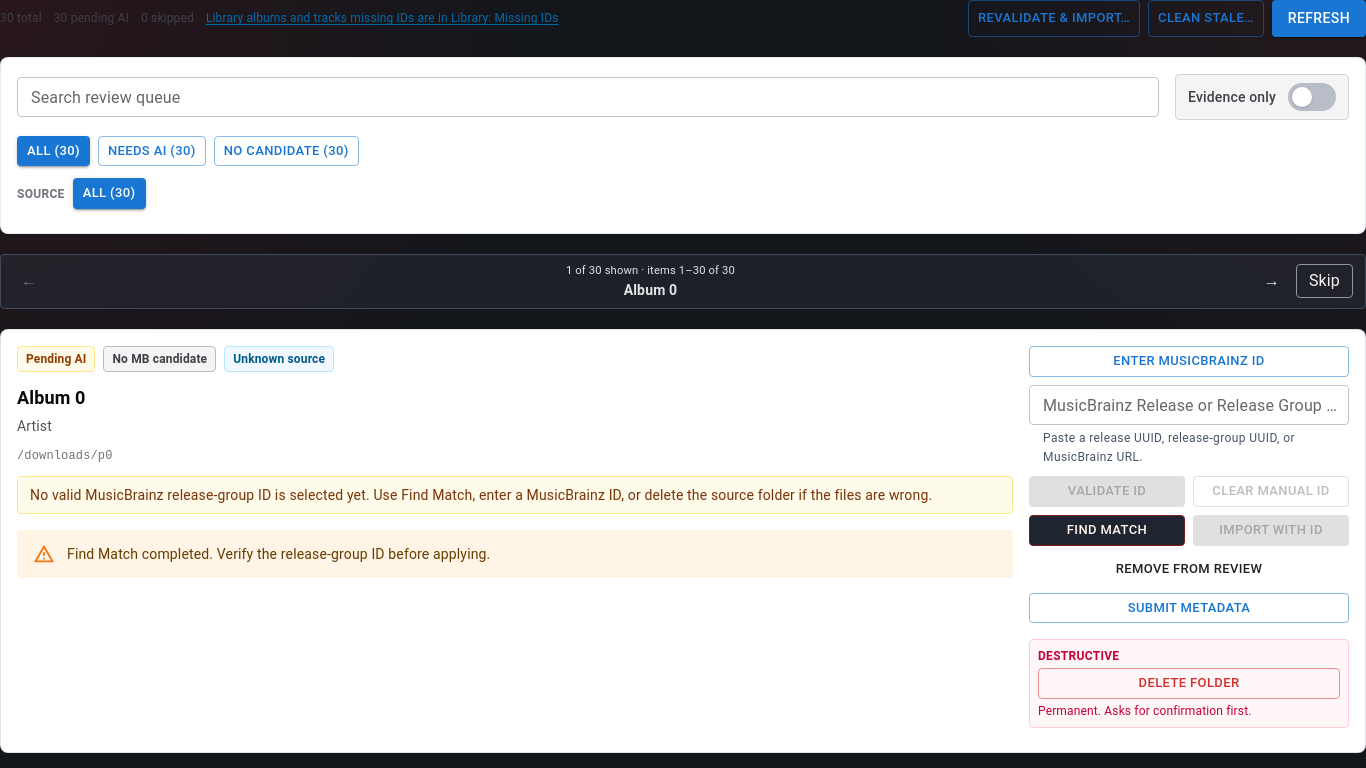
it: Revalidate & Import: synchronous and job forms (#396 B1) › 202 job: says it runs in the background, never "Revalidated 0", then reports the job counts and reloads
This screenshot has width=1366, height=768.
Click the button "Revalidate & Import…" at [1054, 18], box [968,0,1140,36]
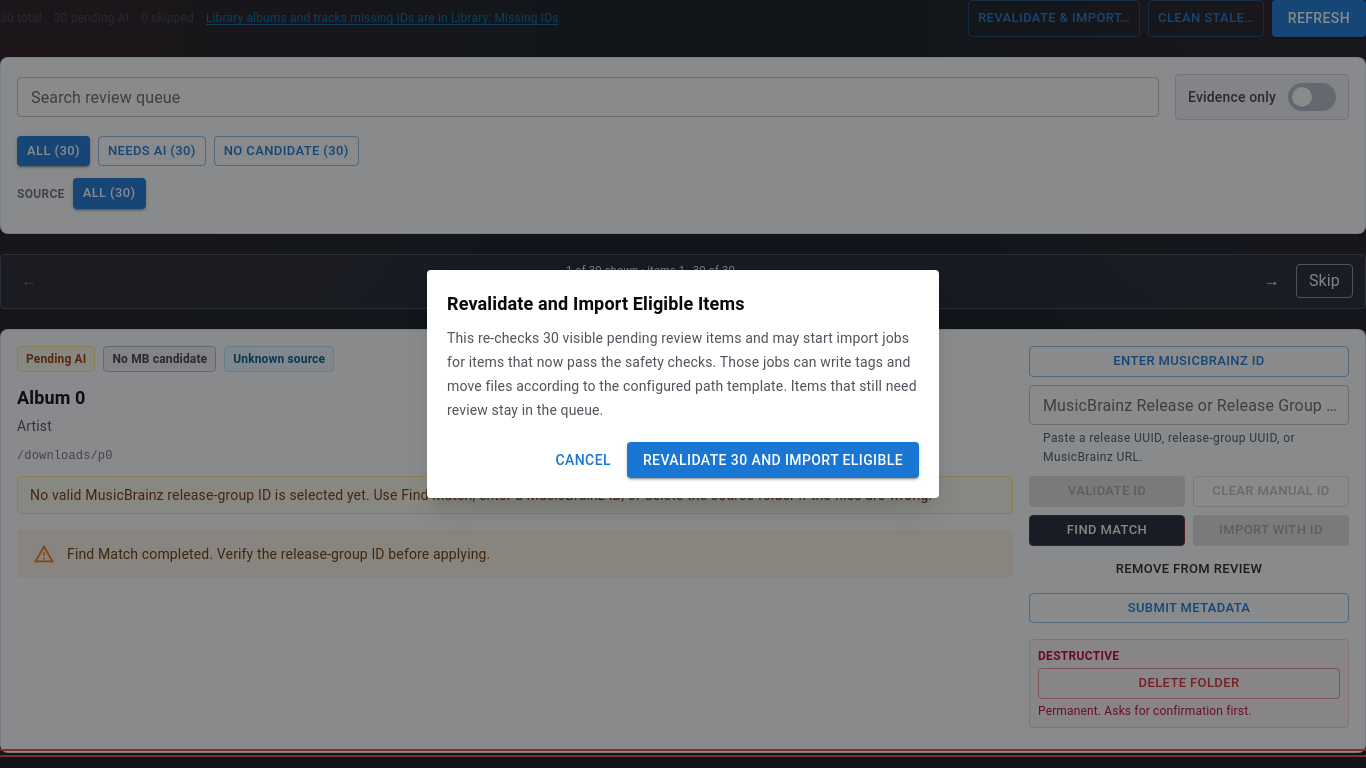
Click the button "Revalidate 30 and import eligible" at [773, 460], box [627,442,919,478]
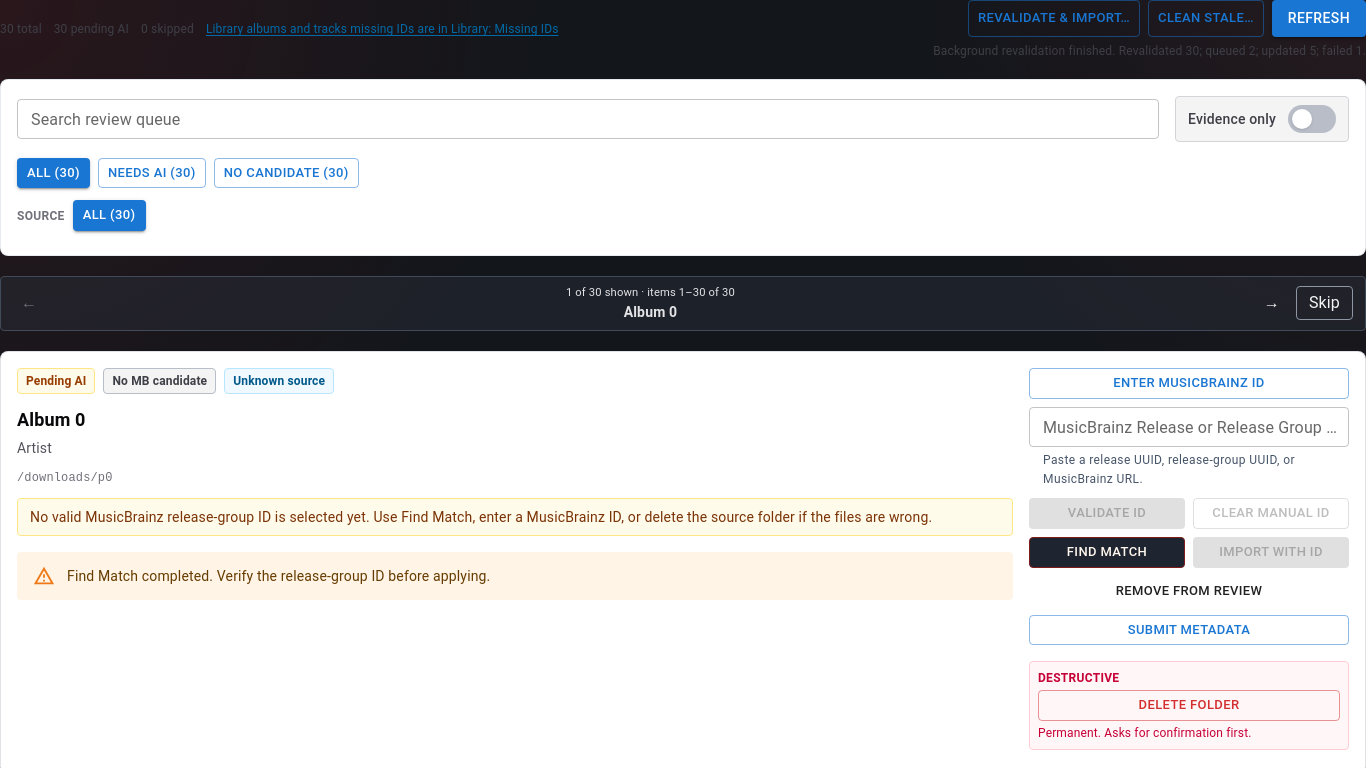
Expected: the button named "Revalidating…" is shown, [968,0,1140,36]
Now the text "Background revalidation finished. Revalidated 30; queued 2; updated 5; failed 1." is shown, box [933,42,1365,58]
